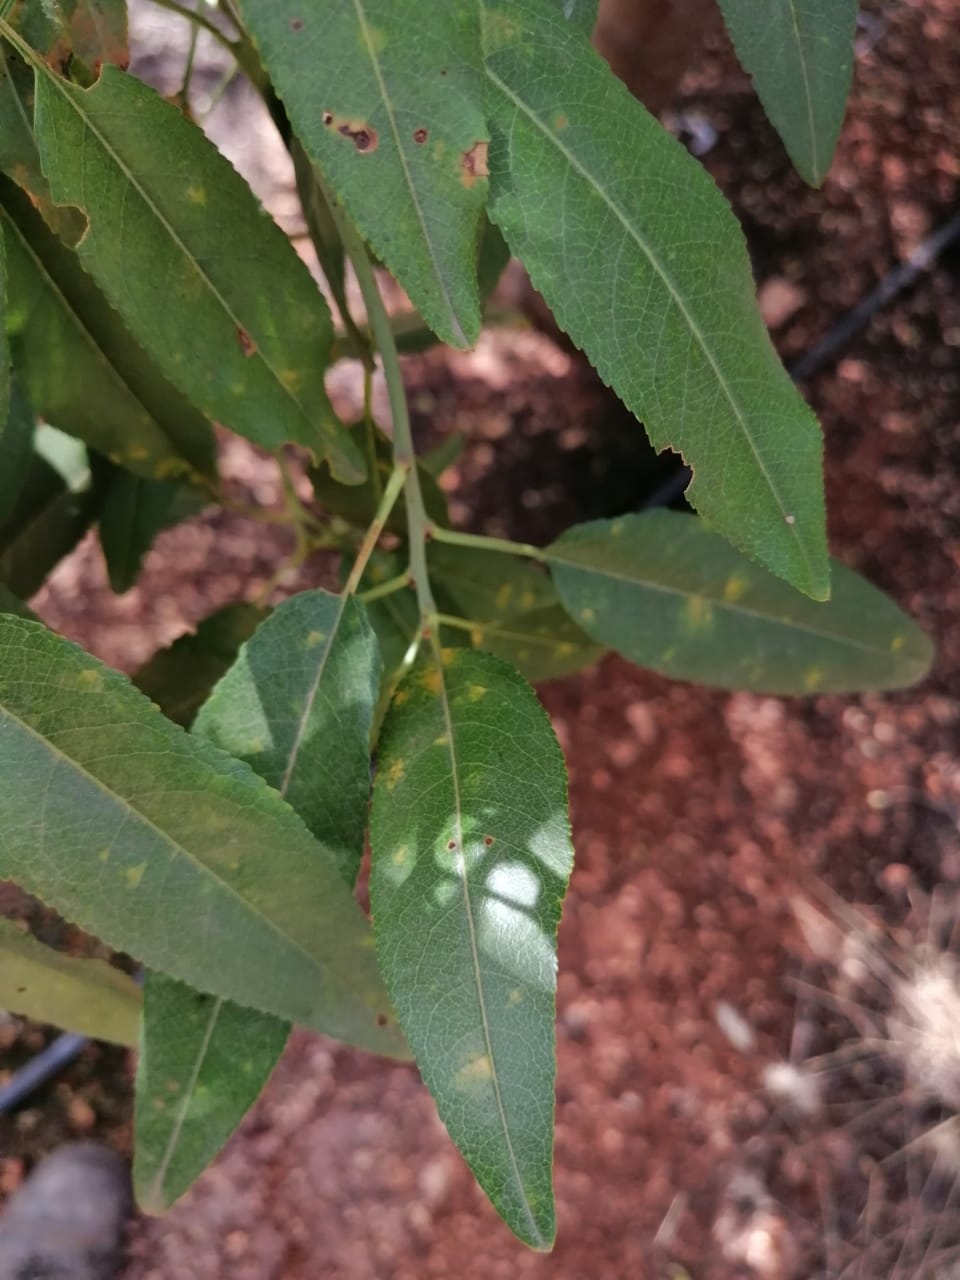polystigma: (369, 642, 579, 1257), (224, 2, 502, 354)
